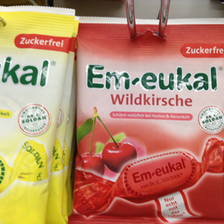candy: (78, 16, 222, 224), (1, 11, 73, 224)
